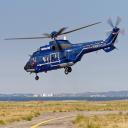helicopter: (5, 16, 127, 83)
